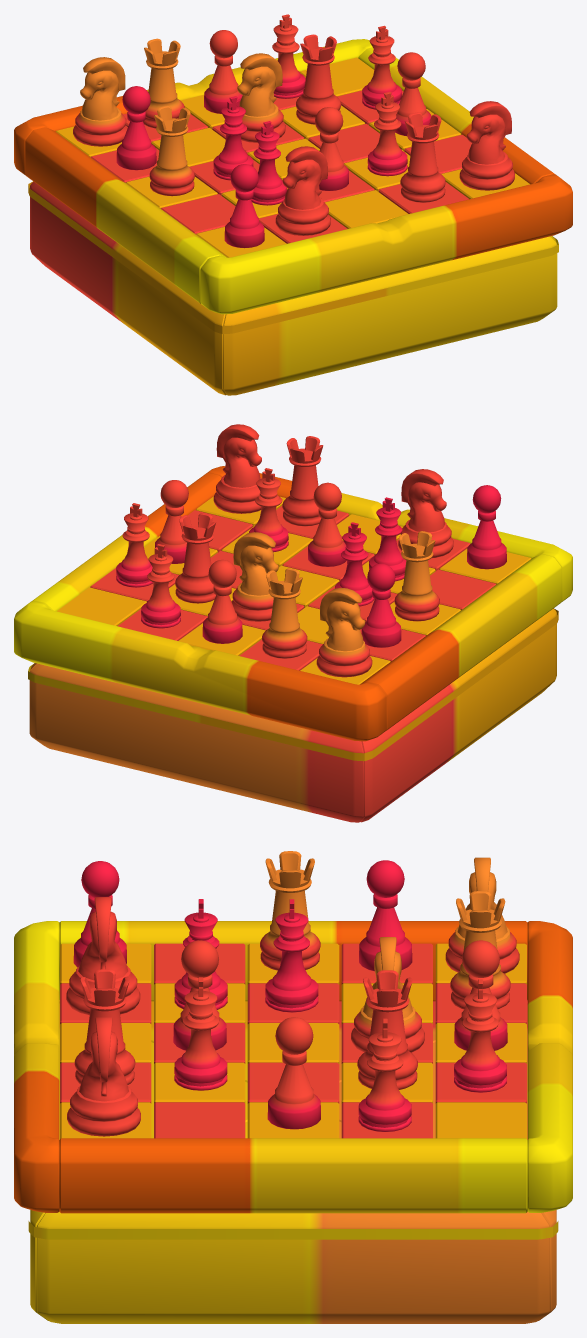
The model's file is level_168.fbx.
3 renders of one model, top to bottom at view 1: azimuth 30°, elevation 25°; view 2: azimuth 150°, elevation 25°; view 3: azimuth 270°, elevation 25°, orthographic. The views are drawn at different scales.
Visible parts, largest first — view 1: Cube_L4_1.001, Cube_L2_2.002, Cube_L4.001, Cube_L2.002, Cube_L1_4.002, Cube_L1_17, Cube_L1_2.002, Cube_L2_1.002, Cube_L1_8.002, Cube_L2_3.002, Cube_L1_11.002, Cube_L1.002 (+34 smaller); view 2: Cube_L4_2.001, Cube_L2_1.002, Cube_L4.001, Cube_L2.002, Cube_L2_3.002, Cube_L1_2.002, Cube_L1_17, Cube_L2_2.002, Cube_L1_8.002, Cube_L1_4.002, Cube_L1_5.002, Cube_L1.002 (+32 smaller); view 3: Cube_L4_3.001, Cube_L2_3.002, Cube_L2_1.002, Cube_L2_2.002, Cube_L2.002, Cube_L1_17, Cube_L1_15, Cube_L1_4.002, Cube_L1_16, Cube_L1_12.002, Cube_L1_7.002, Cube_L1_14 (+39 smaller).
Boxes of the visible parts, bbox=[...] form: Cube_L4_1.001: bbox=[222, 237, 558, 395]; Cube_L2_2.002: bbox=[200, 174, 572, 314]; Cube_L4.001: bbox=[28, 182, 226, 395]; Cube_L2.002: bbox=[25, 127, 226, 303]; Cube_L1_4.002: bbox=[275, 146, 330, 235]; Cube_L1_17: bbox=[459, 101, 514, 190]; Cube_L1_2.002: bbox=[73, 57, 127, 146]; Cube_L2_1.002: bbox=[14, 39, 372, 175]; Cube_L1_8.002: bbox=[237, 53, 285, 142]; Cube_L2_3.002: bbox=[358, 47, 554, 184]; Cube_L1_11.002: bbox=[400, 112, 445, 202]; Cube_L1.002: bbox=[149, 105, 194, 196]; Cube_L4_2.001: bbox=[28, 664, 364, 822]; Cube_L2_1.002: bbox=[14, 601, 386, 741]; Cube_L4.001: bbox=[360, 609, 558, 822]; Cube_L2.002: bbox=[360, 554, 561, 730]; Cube_L2_3.002: bbox=[32, 473, 221, 611]; Cube_L1_2.002: bbox=[316, 588, 372, 677]; Cube_L1_17: bbox=[213, 424, 261, 513]; Cube_L2_2.002: bbox=[207, 466, 572, 602]; Cube_L1_8.002: bbox=[231, 532, 278, 621]; Cube_L1_4.002: bbox=[398, 469, 453, 558]; Cube_L1_5.002: bbox=[262, 568, 307, 658]; Cube_L1.002: bbox=[394, 531, 439, 621]; Cube_L4_3.001: bbox=[34, 1121, 552, 1323]; Cube_L2_3.002: bbox=[59, 1138, 527, 1213]; Cube_L2_1.002: bbox=[527, 921, 572, 1212]; Cube_L2_2.002: bbox=[14, 921, 59, 1212]; Cube_L2.002: bbox=[59, 921, 527, 1001]; Cube_L1_17: bbox=[67, 1017, 140, 1136]; Cube_L1_15: bbox=[267, 1017, 320, 1129]; Cube_L1_4.002: bbox=[66, 897, 140, 1014]; Cube_L1_16: bbox=[358, 1018, 411, 1131]; Cube_L1_12.002: bbox=[174, 977, 227, 1090]; Cube_L1_7.002: bbox=[265, 899, 318, 1012]; Cube_L1_14: bbox=[454, 979, 506, 1092].
Size of the model in its own units: 15.67 by 8.95 by 15.67.
